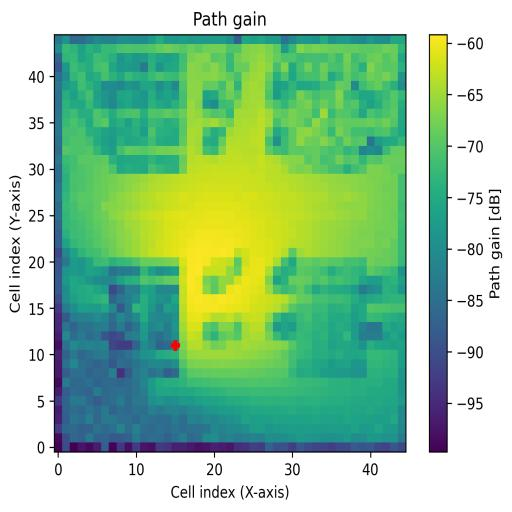Concrete: (288, 54, 368, 174)
Glass: (109, 53, 187, 175)
Metal: (289, 259, 368, 379)
Wood: (109, 257, 179, 380)
